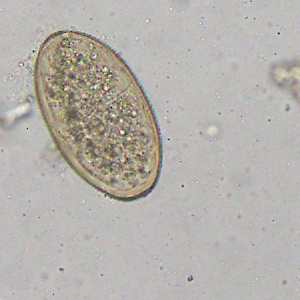Fasciola_hepatica_egg: (32, 28, 163, 202)
